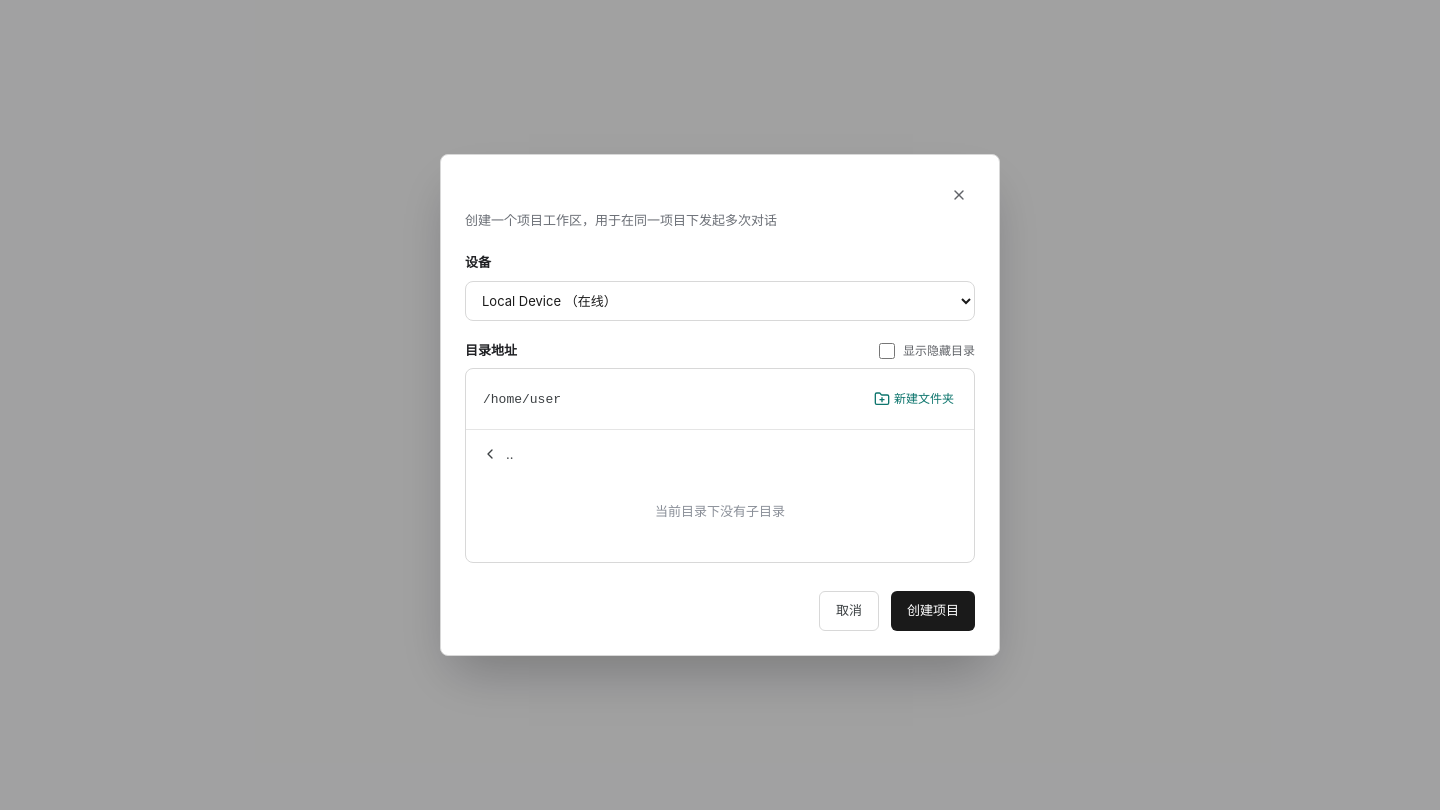
Scenario: ProjectCreateDialog › creates a folder and refreshes into the new directory
This screenshot has width=1440, height=810.
Expected: the field with test id "project-directory-path-input" holds "/home/user", [478,383,858,415]
Click the button with test id "open-create-folder-button": (914, 399) [866,377,962,421]
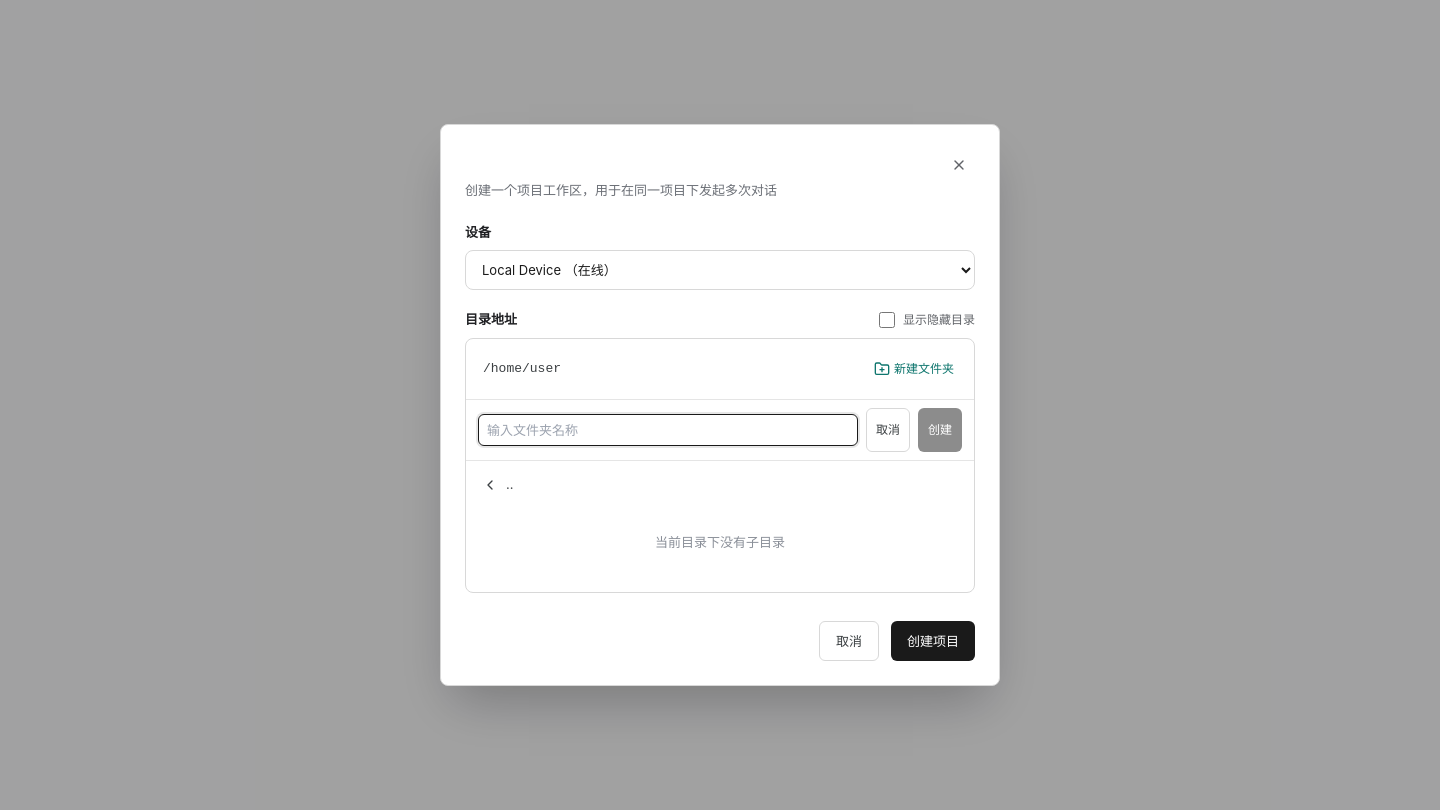
In the field with test id "create-folder-name-input": (668, 430) [478,414,858,446], type "new-app"
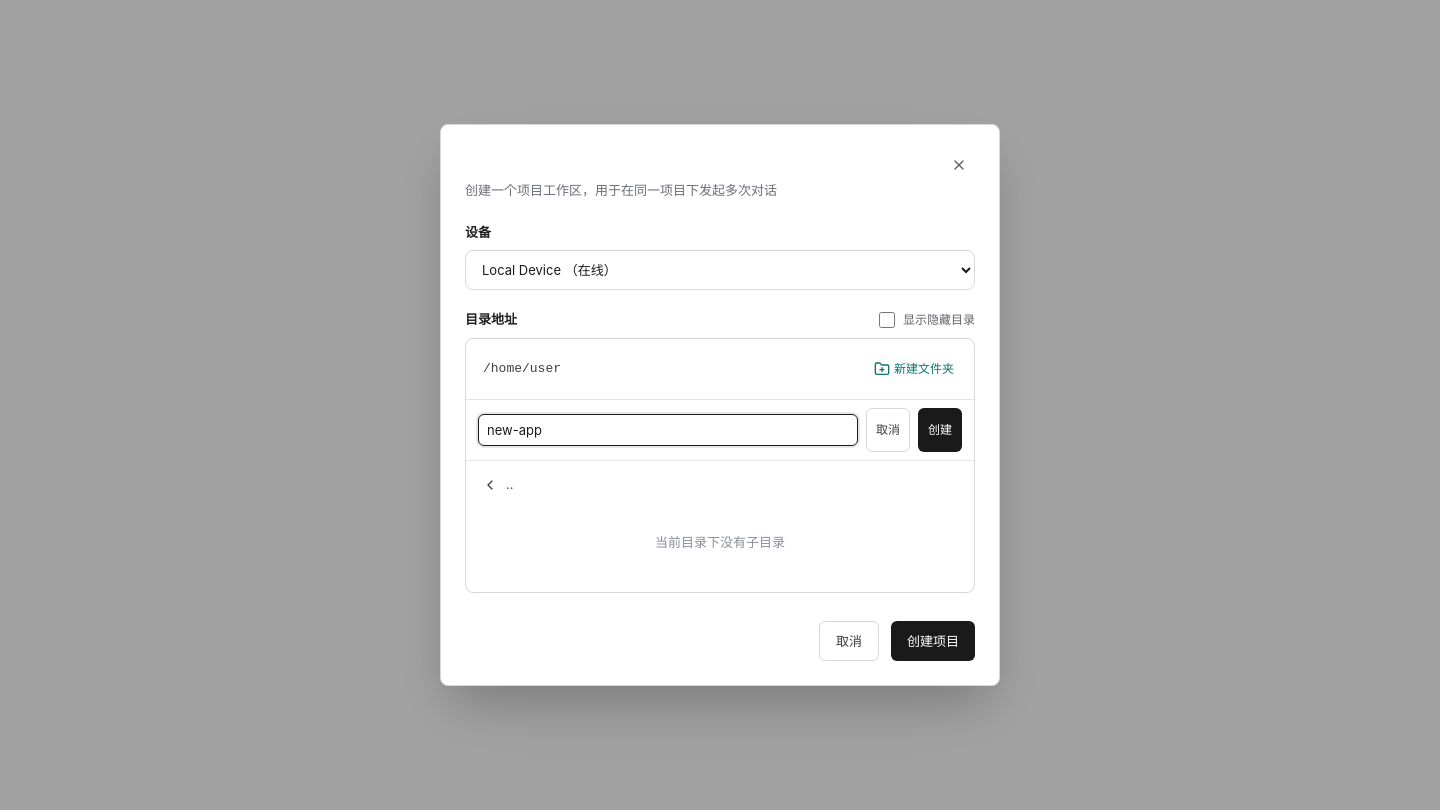
Click the button with test id "confirm-create-folder-button": (940, 430) [918,408,962,452]
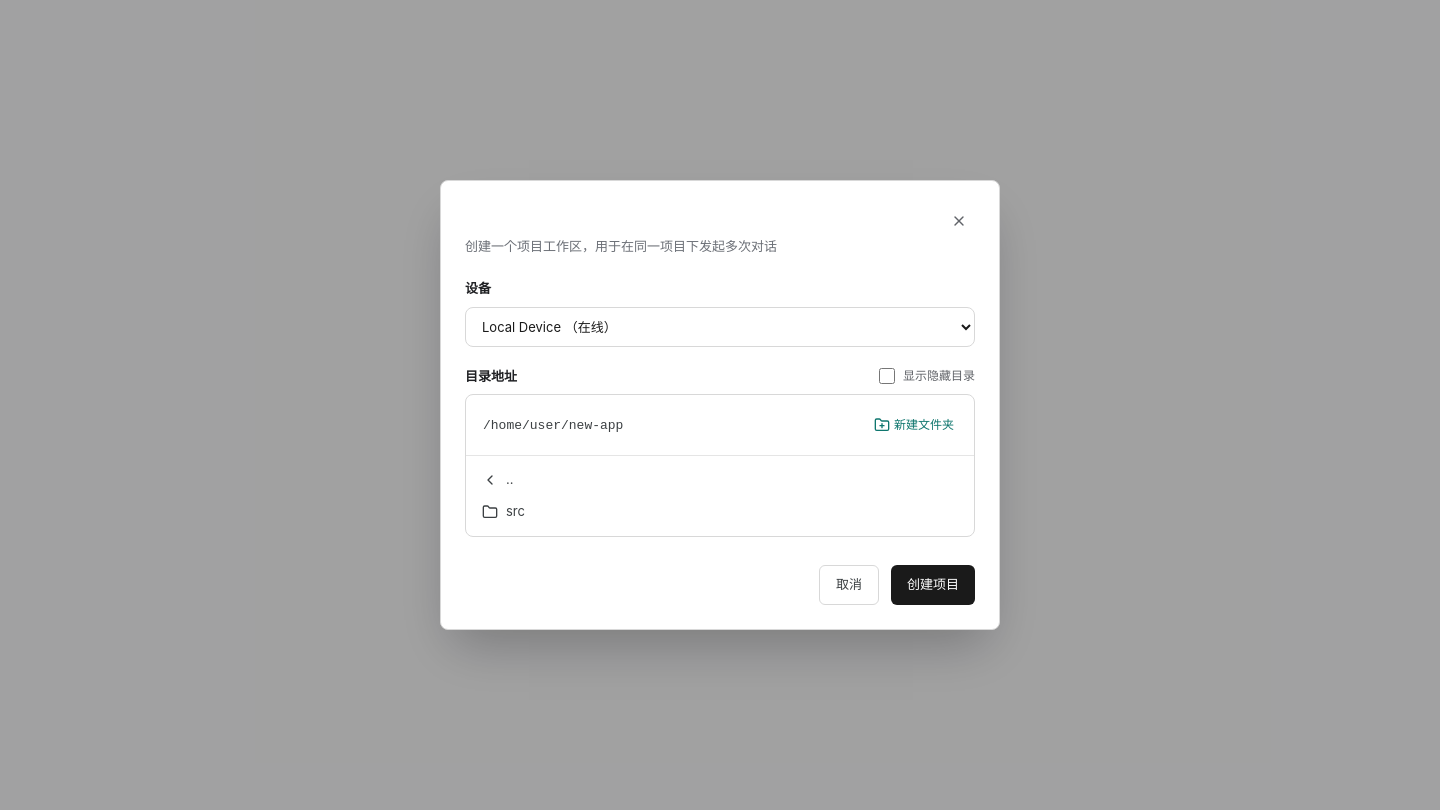
Expected: the field with test id "project-directory-path-input" holds "/home/user/new-app", [478,409,858,441]
Expected: the text "src" is shown, [506,503,525,519]
